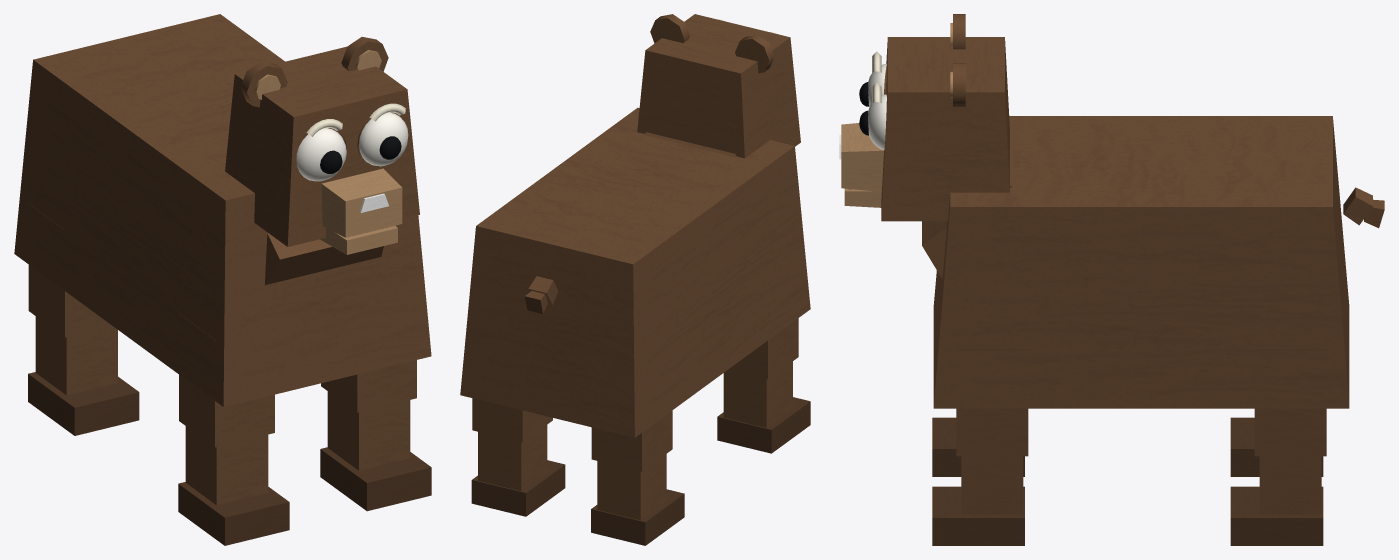
Rendered from bear.glb.
The picture shows the model from 3 angles, left to right: view 1: azimuth 30°, elevation 25°; view 2: azimuth 150°, elevation 25°; view 3: azimuth 270°, elevation 25°; orthographic projection. The views are drawn at different scales.
Parts seen in each view (by area): view 1: body, head, kneeFL, kneeFR, kneeBR, legFR, legFL, neck, legBR, earR, jaw, earL; view 2: body, head, kneeBL, kneeBR, kneeFR, legBR, legBL, legFR, earR, earL, tail; view 3: body, head, kneeBL, kneeFL, legFL, legBL, kneeBR, kneeFR, neck, tail, earL, jaw.
Part boxes in pixels (x1,y1,x2,y2): body: (14,14,431,406); head: (225,46,419,246); kneeFL: (320,391,431,511); kneeFR: (178,426,289,545); kneeBR: (28,316,139,435); legFR: (179,313,274,447); legFL: (321,360,416,412); neck: (265,233,383,284); legBR: (28,203,112,337); earR: (240,61,287,107); jaw: (320,225,397,254); earL: (341,37,388,71); body: (460,107,810,437); head: (637,14,800,158); kneeBL: (471,425,565,516); kneeBR: (591,454,684,545); kneeFR: (717,361,810,453); legBR: (591,359,672,471); legBL: (472,398,552,442); legFR: (728,267,798,379); earR: (735,34,774,73); earL: (650,14,689,43); tail: (528,276,558,305); body: (933,116,1349,408); head: (839,37,1009,221); kneeBL: (1230,456,1323,545); kneeFL: (932,456,1024,545); legFL: (956,349,1028,456); legBL: (1254,349,1326,456); kneeBR: (1230,417,1323,476); kneeFR: (932,417,1024,476); neck: (922,133,1012,279); tail: (1343,187,1372,225); earL: (950,63,965,106); jaw: (844,188,881,207).
Size of the model in its own units: 0.66 by 1.39 by 1.51.
18 materials, 15 textured.
